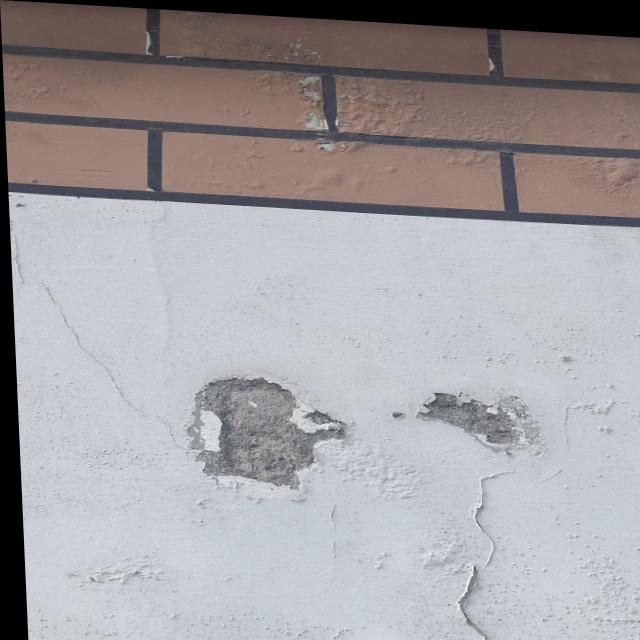crack: (434, 460, 537, 640)
spalling: (167, 367, 356, 500), (401, 373, 546, 457)
